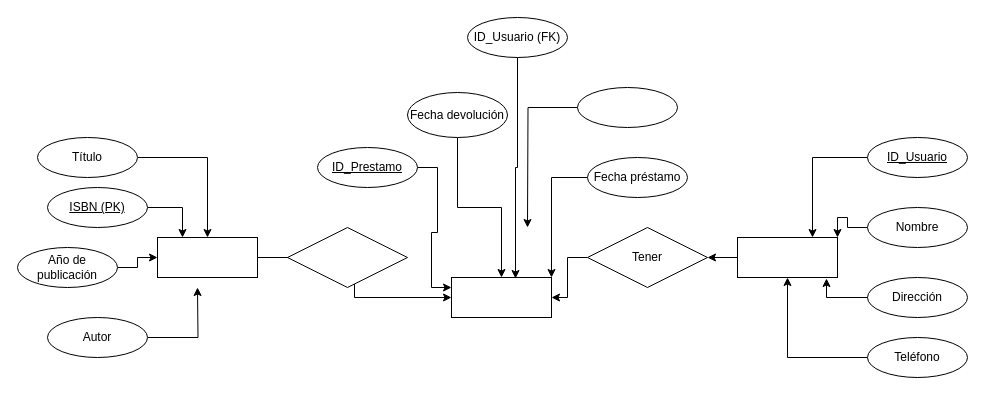
Some shapes in this 985 by 395 pixel diagram are drawn without their labels. Here are the shapes that lost their labels. From the top down, the centre of each, then its label:
At point 627,107: "ISBN (FK)".
At point 207,257: "Libros".
At point 347,257: "Puede".
At point 787,257: "Usuario".
At point 501,297: "Préstamo".
